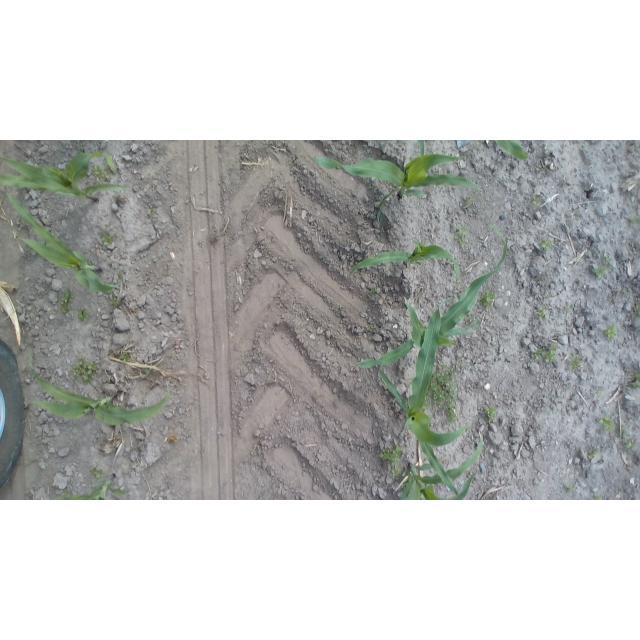Maize: (356, 227, 516, 373), (376, 293, 464, 495), (4, 190, 129, 296), (309, 148, 486, 220), (25, 353, 175, 429), (395, 432, 491, 500), (0, 152, 132, 201), (346, 238, 464, 282), (40, 473, 135, 500), (494, 140, 532, 164)
Weeds: (423, 364, 460, 425), (377, 443, 405, 480), (70, 355, 99, 385), (58, 286, 78, 317), (452, 224, 471, 248), (478, 289, 496, 311), (97, 228, 115, 249), (598, 414, 616, 434), (543, 343, 559, 364), (91, 165, 109, 183), (568, 355, 584, 374), (538, 236, 554, 252), (144, 207, 158, 225), (484, 405, 498, 423), (603, 325, 619, 340), (621, 437, 636, 453), (592, 266, 610, 279), (78, 308, 93, 323), (462, 196, 475, 211), (536, 307, 549, 322), (531, 345, 544, 360), (90, 466, 106, 478), (530, 195, 543, 209), (602, 254, 615, 267), (588, 448, 601, 461), (110, 293, 121, 308), (628, 373, 639, 388), (120, 352, 132, 365), (141, 367, 153, 378), (628, 216, 638, 229), (564, 484, 576, 494), (632, 303, 639, 320), (563, 304, 574, 314), (369, 285, 379, 296), (591, 493, 606, 500), (620, 425, 628, 438), (594, 389, 603, 399), (545, 292, 554, 301), (455, 360, 463, 369)
